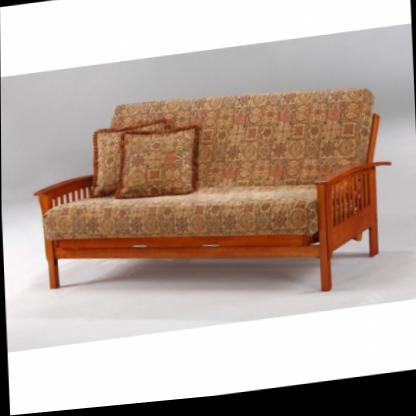Sofa: (29, 76, 396, 331)
